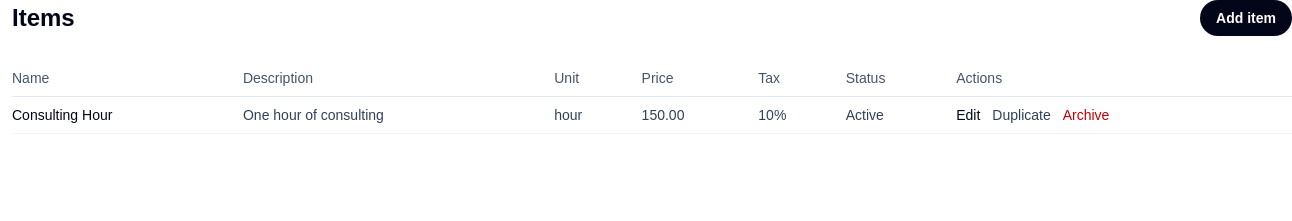
Test: ItemListView › shows an error when archiving fails, keeping the item in the list
Check: the text "Consulting Hour" is shown, box top-left (12, 96), bottom-right (243, 134)
Click the button "Archive".
click(1086, 115)  # box top-left (1063, 105), bottom-right (1109, 125)
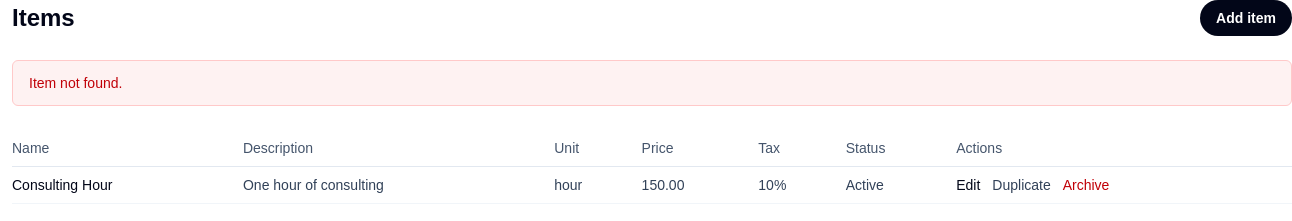
Check: the text "Consulting Hour" is shown, box top-left (12, 166), bottom-right (243, 204)
Check: the message reads "Item not found.", box top-left (29, 75), bottom-right (122, 91)
